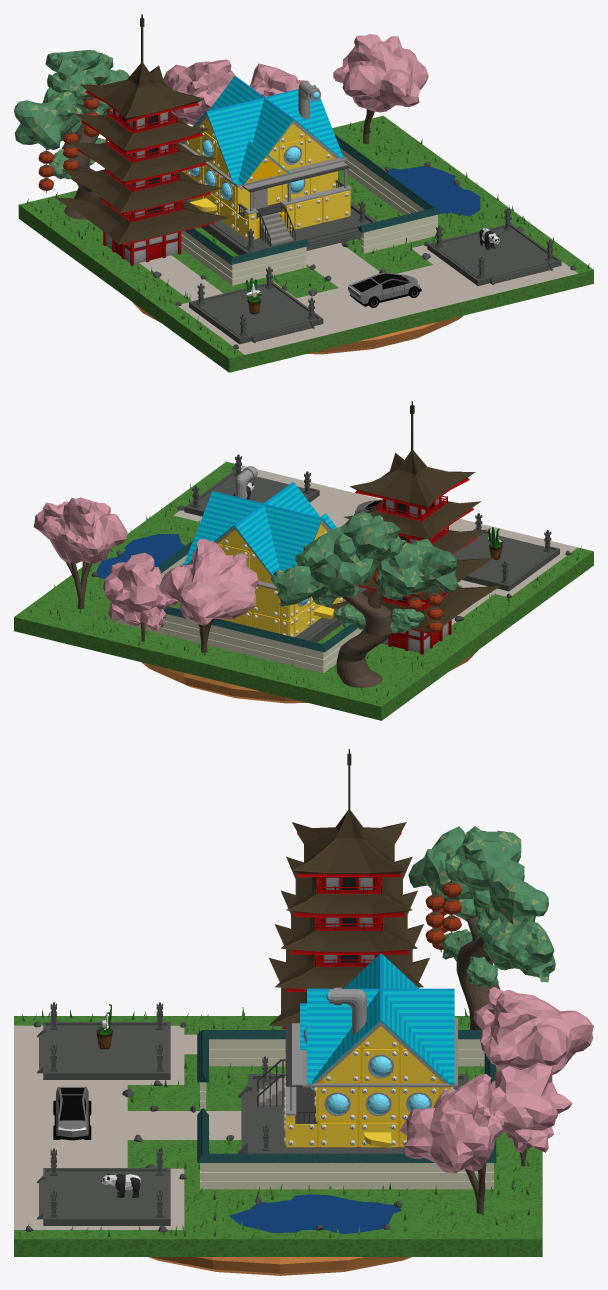
3 views of the same model, one above another, from view 1: azimuth 30°, elevation 25°; view 2: azimuth 150°, elevation 25°; view 3: azimuth 270°, elevation 25° (orthographic). The views are drawn at different scales.
Parts seen in each view (by area): view 1: Cube.005, Cube.1366, VEHICLES_CYBERTRUCK, UNDERGROUND_PIZZA; view 2: Cube.005, Cube.1366, UNDERGROUND_PIZZA; view 3: Cube.005, Cube.1366, UNDERGROUND_PIZZA, VEHICLES_CYBERTRUCK.
Part boxes in pixels (x1,y1,x2,y2): Cube.005: (14,14,593,372); Cube.1366: (177,76,352,246); VEHICLES_CYBERTRUCK: (348,272,421,307); UNDERGROUND_PIZZA: (132,302,463,354); Cube.005: (14,401,593,720); Cube.1366: (180,466,344,636); UNDERGROUND_PIZZA: (141,650,478,703); Cube.005: (14,749,593,1256); Cube.1366: (257,953,457,1148); UNDERGROUND_PIZZA: (148,1257,411,1275); VEHICLES_CYBERTRUCK: (53,1086,91,1140).
Size of the model in its own units: 4528 by 2902 by 4389.
41 materials, 5 textured.
